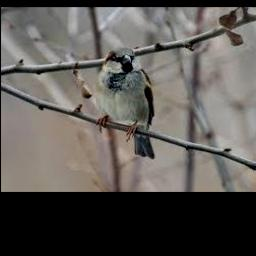Sparrow: (97, 47, 155, 159)
